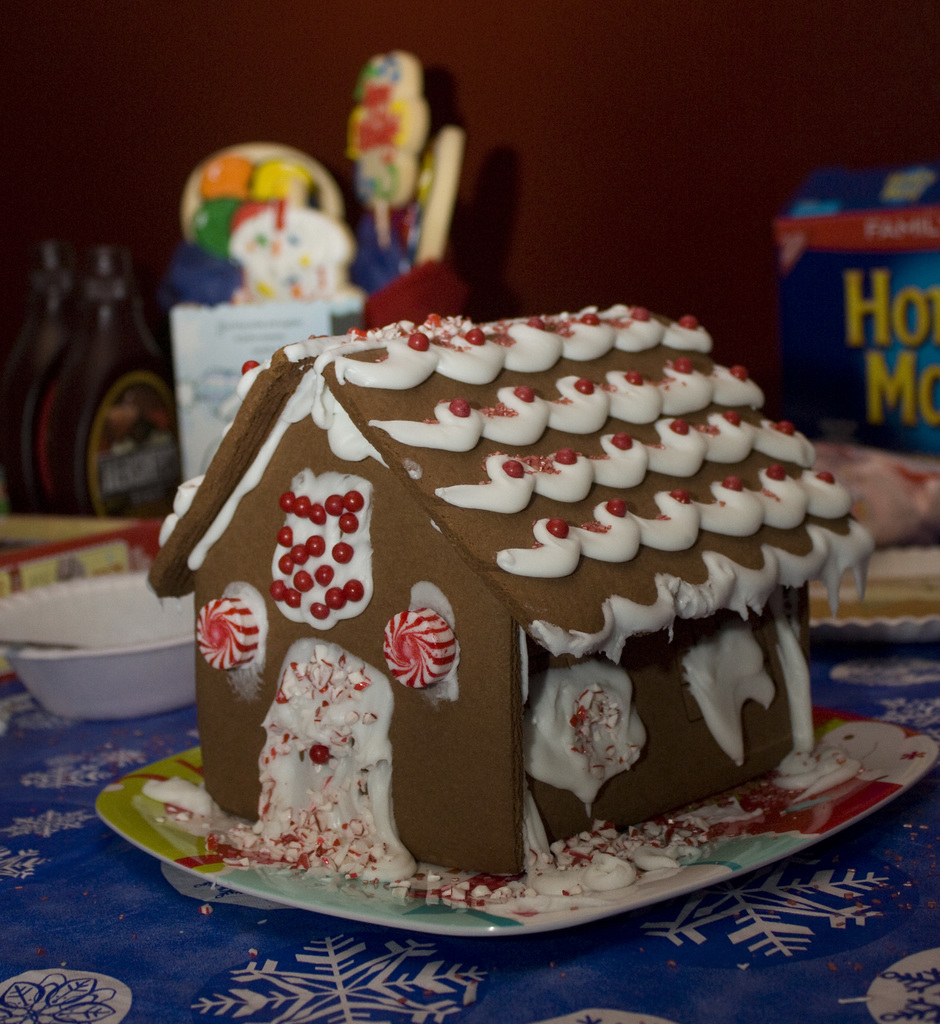cake: (149, 307, 877, 886)
